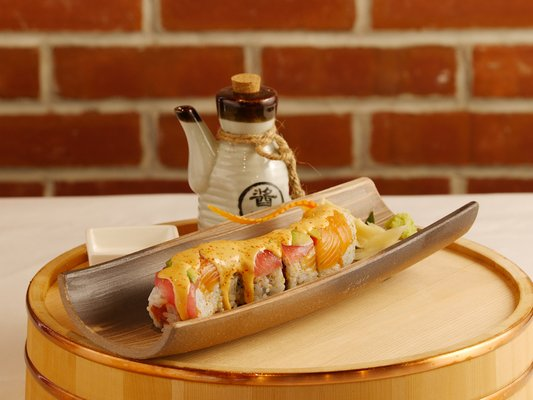burger: (186, 73, 302, 231)
curry: (1, 193, 492, 398)
